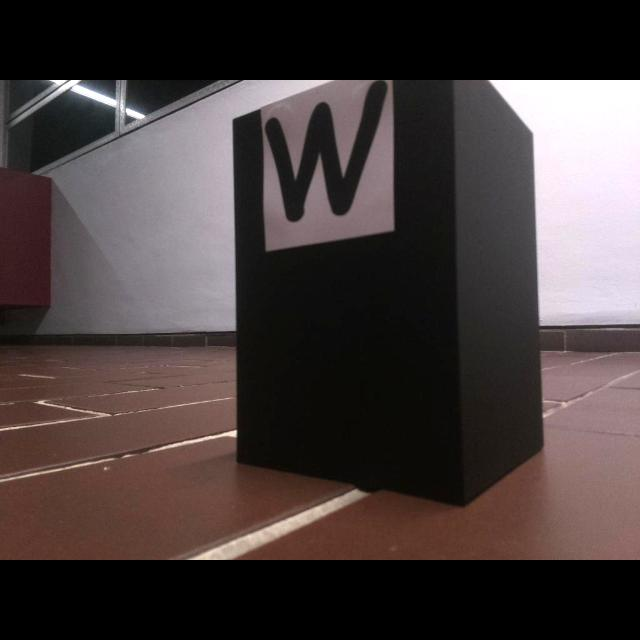W: (263, 80, 391, 226)
